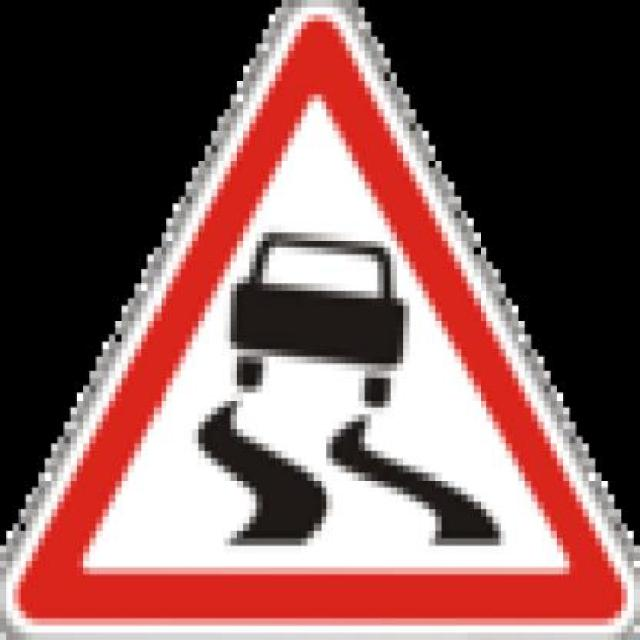Slippery Road Ahead: (0, 0, 635, 634)
